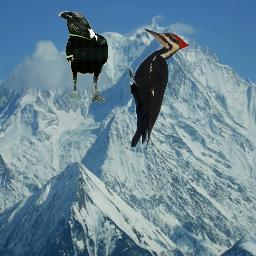Crow: (58, 11, 108, 102)
Woodpecker: (129, 27, 192, 147)
